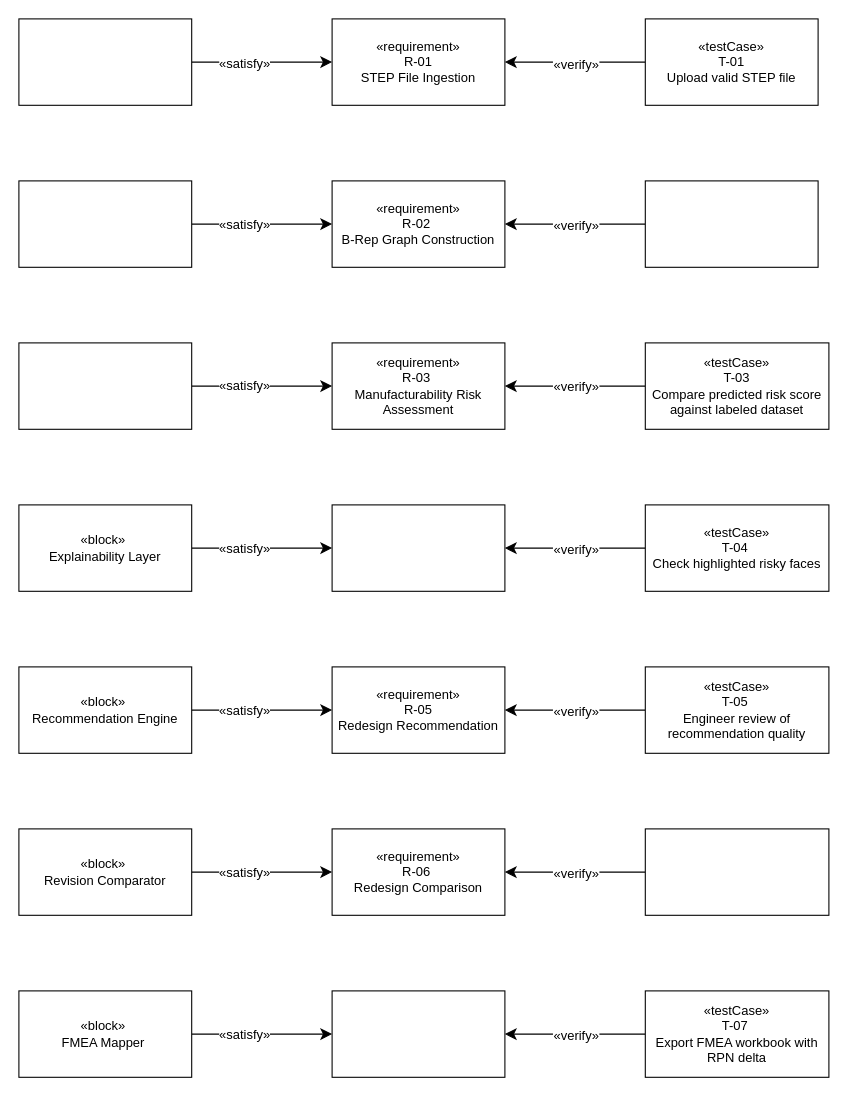
Image size: 848x1096. Some labels were removed from this diagram. The centre of each missing label's shape, as x and y in pixels:
"«block» B-Rep Graph Builder" goes at (x=105, y=223).
"«block» CAD Importer" goes at (x=105, y=61).
"«block» Manufacturability Assessment Engine" goes at (x=105, y=385).
"«requirement» R-04 Feature-Level Explainability" goes at (x=418, y=547).
"«requirement» R-07 FMEA Risk Mapping" goes at (x=418, y=1033).
"«testCase» T-02 Inspect generated face-adjacency graph" goes at (x=731, y=223).
"«testCase» T-06 Run before/after redesigned part comparison" goes at (x=736, y=871).
